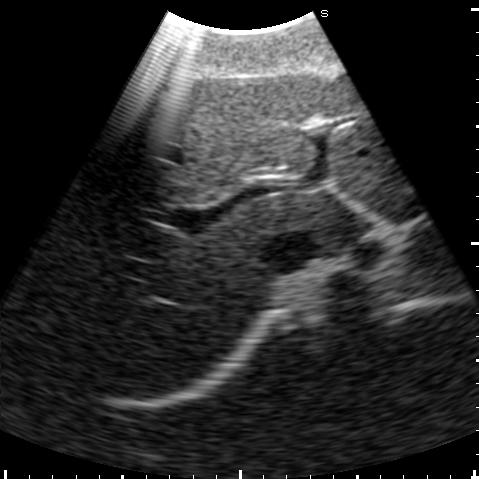IVC: (263, 234, 316, 273)
S1: (233, 191, 369, 256)
S2: (333, 180, 425, 224)
S3: (313, 73, 410, 186)
S4: (150, 74, 321, 210)
